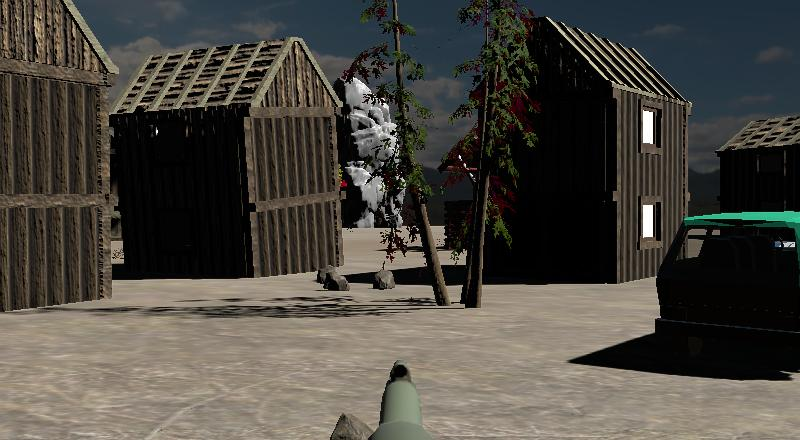House: (466, 17, 693, 283), (110, 37, 343, 278), (0, 0, 122, 313), (719, 113, 800, 213)
car: (655, 212, 800, 357)
